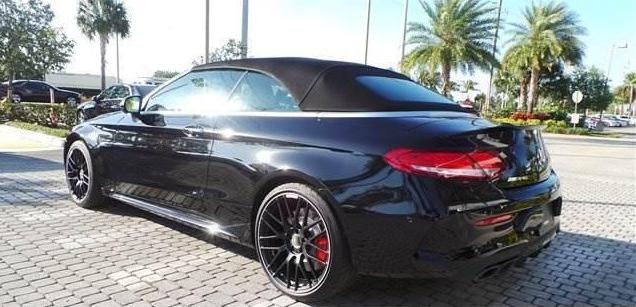C63AMG: (60, 54, 571, 304)
